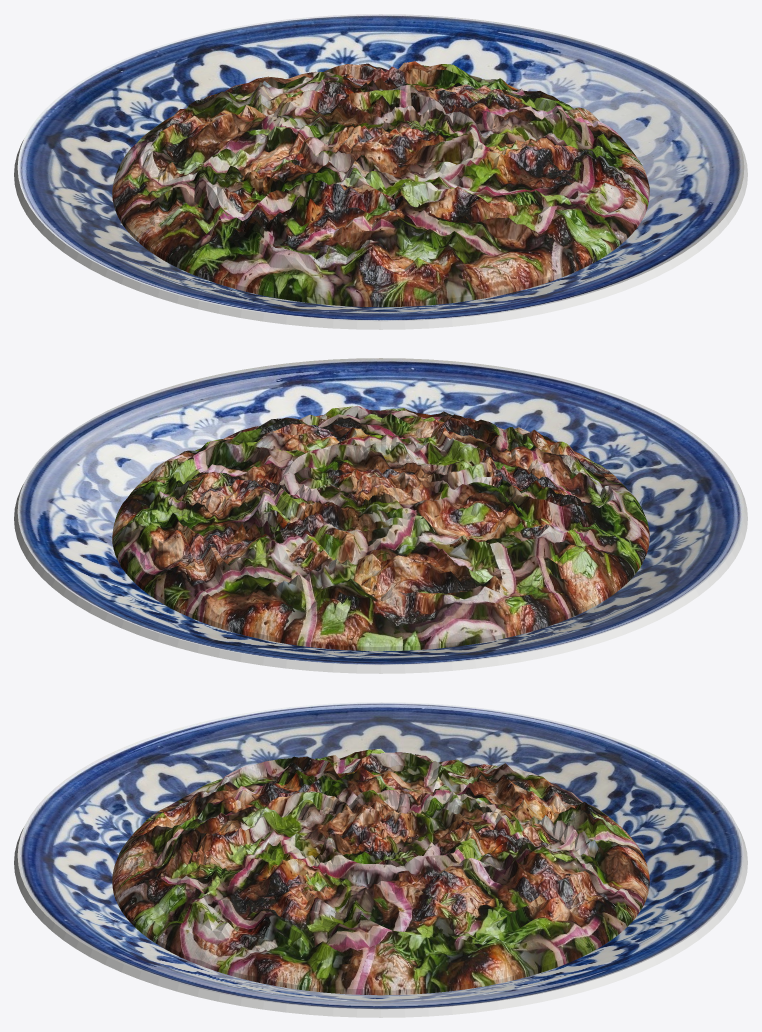
File: shashlik.glb
The picture shows the model from 3 angles, top to bottom: view 1: azimuth 30°, elevation 25°; view 2: azimuth 150°, elevation 25°; view 3: azimuth 270°, elevation 25°; orthographic projection.
Visible parts, largest first — view 1: shashlik_2, shashlik_0, shashlik_1; view 2: shashlik_2, shashlik_0, shashlik_1; view 3: shashlik_2, shashlik_0, shashlik_1.
Part boxes in pixels (box(x1,y1,x2,y2)): shashlik_2: box(112, 61, 649, 307); shashlik_0: box(17, 14, 744, 321); shashlik_1: box(14, 140, 747, 329); shashlik_2: box(112, 405, 649, 651); shashlik_0: box(17, 358, 744, 665); shashlik_1: box(14, 484, 747, 673); shashlik_2: box(112, 748, 649, 995); shashlik_0: box(17, 702, 744, 1009); shashlik_1: box(14, 828, 747, 1017).
Size of the model in its own units: 0.2828 by 0.0379 by 0.2828.
Materials: 3 (2 with a texture image).
